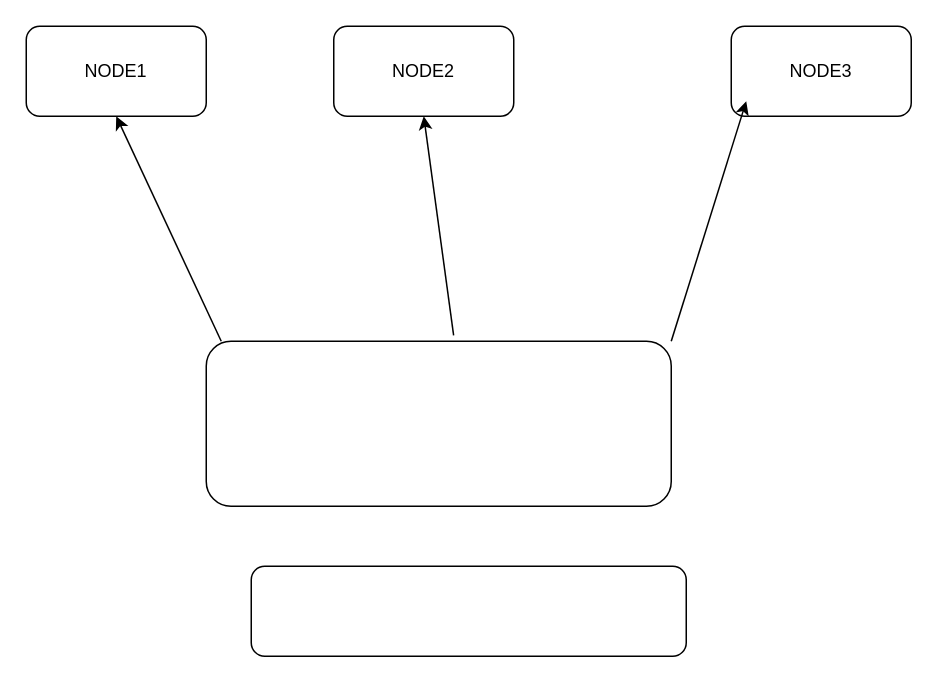
Image size: 938x683. Some labels were removed from this diagram. The shapes that lost their labels are listed below. From the top down, each one's centre as x and y in pixels, then its label:
[438,423]: jenkins
[468,610]: yum install java -y yum install vim -y
